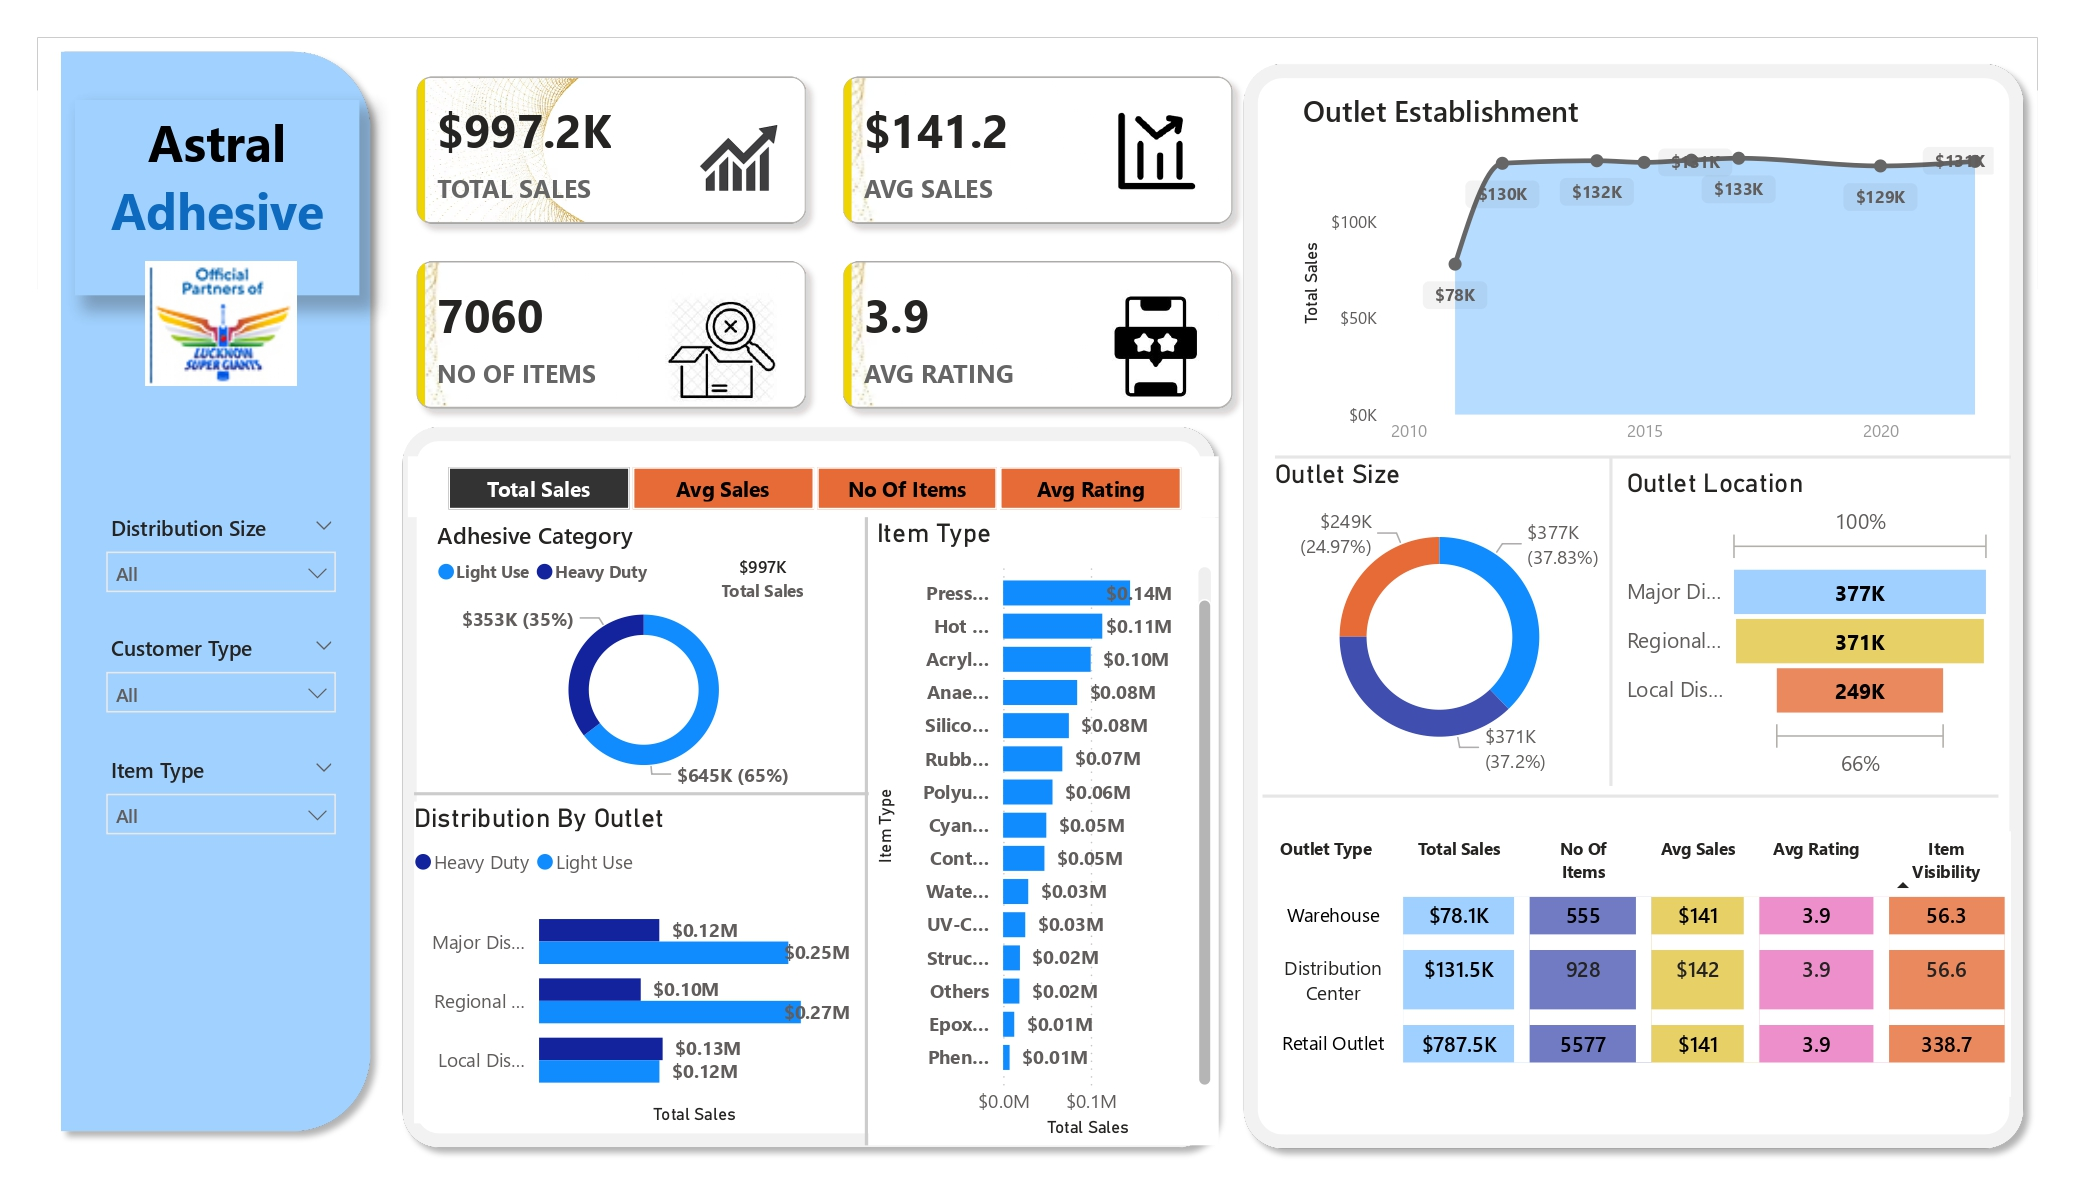

The dashboard page shown, as its layout file describes it:
{"tool":"powerbi","page":{"name":"Page 1","canvas":[1280,720],"ordinal":0},"visuals":[{"type":"shape","box":[6.5,0,215.4,709.2],"z":0},{"type":"textbox","box":[24.3,40.5,181.4,124.7],"z":1000},{"type":"image","box":[48.6,137.6,137.6,90.7],"z":2000},{"type":"cardVisual","fields":{"Data":["Astral Adhesive Data.Total Sales","Astral Adhesive Data.Avg Sales","Astral Adhesive Data.No Of Items","Astral Adhesive Data.Avg Rating"]},"box":[226,8.1,557.6,247.1],"z":3000},{"type":"image","box":[668.2,157.7,94.3,79.7],"z":4000},{"type":"image","box":[396.7,157.7,81.3,82.9],"z":5000},{"type":"image","box":[408.1,40.6,81.3,69.9],"z":6000},{"type":"image","box":[674.7,40.6,81.3,68.3],"z":7000},{"type":"shape","box":[225.1,239.6,537.6,479.3],"z":8000},{"type":"donutChart","title":"Adhesive Category","fields":{"Y":["Astral Adhesive Data.Total Sales"],"Category":["Astral Adhesive Data.Adhesive Category"]},"box":[255.8,307.7,263.9,171.6],"z":9000},{"type":"slicer","title":"Outlet Establishment","fields":{"Values":["Metrics.Metrics"]},"box":[237.4,268.2,518.6,39],"z":10000},{"type":"cardVisual","fields":{"Data":["Astral Adhesive Data.Total Sales"]},"box":[424.2,319,81,48.6],"z":11000},{"type":"clusteredBarChart","title":"Distribution By Outlet","fields":{"Y":["Astral Adhesive Data.Total Sales"],"Category":["Astral Adhesive Data.Distribution Size"],"Series":["Astral Adhesive Data.Adhesive Category"]},"box":[241.3,489,278.5,205.6],"z":12000},{"type":"shape","box":[241.3,479.3,293.1,9.7],"z":13000},{"type":"shape","box":[520.2,307.3,21.1,401.6],"z":14000},{"type":"barChart","title":"Item Type","fields":{"Y":["Astral Adhesive Data.Total Sales"],"Category":["Astral Adhesive Data.Item Type"]},"box":[531.6,307.3,224.4,401.6],"z":15000},{"type":"shape","box":[763.3,8.3,516.7,711.7],"z":16000},{"type":"lineChart","title":"Outlet Establishment ","fields":{"Category":["Astral Adhesive Data.Outlet Establishment Year"],"Y":["Astral Adhesive Data.Total Sales"]},"box":[804.8,34,451.8,234.8],"z":17000},{"type":"donutChart","title":"Outlet Size","fields":{"Y":["Astral Adhesive Data.Total Sales"],"Category":["Astral Adhesive Data.Distribution Size"]},"box":[791.8,268.8,210.5,210.5],"z":18000},{"type":"funnel","title":"Outlet Location","fields":{"Category":["Astral Adhesive Data.Distribution Size"],"Y":["Sum(Astral Adhesive Data.Sales)"]},"box":[1012,275.3,244.5,204],"z":19000},{"type":"pivotTable","fields":{"Values":["Astral Adhesive Data.Total Sales","Astral Adhesive Data.No Of Items","Astral Adhesive Data.Avg Sales","Astral Adhesive Data.Avg Rating","Sum(Astral Adhesive Data.Item Visibility)"],"Rows":["Astral Adhesive Data.Sales Channel Type"]},"box":[785,508.3,478.3,170],"z":20000},{"type":"shape","box":[791.8,262.3,471.2,13],"z":21000},{"type":"shape","box":[783.7,479.3,471.2,13],"z":22000},{"type":"shape","box":[1002.3,268.8,9.7,210.5],"z":23000},{"type":"slicer","fields":{"Values":["Astral Adhesive Data.Distribution Size"]},"box":[34,299.6,166.8,74.5],"z":23001},{"type":"slicer","fields":{"Values":["Astral Adhesive Data.Customer Type"]},"box":[34,377.3,166.8,74.5],"z":23002},{"type":"slicer","fields":{"Values":["Astral Adhesive Data.Item Type"]},"box":[34,455,166.8,74.5],"z":23003}]}

Visuals, with their boxes in screenshot pixels (x1, y1, x2, y2):
shape: (x1=48, y1=38, x2=384, y2=1146)
textbox: (x1=75, y1=101, x2=359, y2=296)
image: (x1=113, y1=252, x2=328, y2=394)
cardVisual - Astral Adhesive Data.Total Sales x Astral Adhesive Data.Avg Sales: (x1=391, y1=50, x2=1262, y2=436)
image: (x1=1082, y1=284, x2=1229, y2=408)
image: (x1=657, y1=284, x2=784, y2=413)
image: (x1=675, y1=101, x2=802, y2=210)
image: (x1=1092, y1=101, x2=1219, y2=208)
shape: (x1=389, y1=412, x2=1229, y2=1161)
"Adhesive Category" donutChart: (x1=437, y1=518, x2=850, y2=786)
"Outlet Establishment" slicer: (x1=408, y1=457, x2=1219, y2=518)
cardVisual - Astral Adhesive Data.Total Sales: (x1=700, y1=536, x2=827, y2=612)
"Distribution By Outlet" clusteredBarChart: (x1=415, y1=802, x2=850, y2=1123)
shape: (x1=415, y1=786, x2=873, y2=802)
shape: (x1=850, y1=518, x2=883, y2=1145)
"Item Type" barChart: (x1=868, y1=518, x2=1219, y2=1145)
shape: (x1=1230, y1=50, x2=2038, y2=1162)
"Outlet Establishment " lineChart: (x1=1295, y1=91, x2=2001, y2=458)
"Outlet Size" donutChart: (x1=1275, y1=458, x2=1604, y2=786)
"Outlet Location" funnel: (x1=1619, y1=468, x2=2001, y2=786)
pivotTable - Astral Adhesive Data.Total Sales x Astral Adhesive Data.No Of Items: (x1=1264, y1=832, x2=2011, y2=1097)
shape: (x1=1275, y1=447, x2=2011, y2=468)
shape: (x1=1262, y1=786, x2=1998, y2=807)
shape: (x1=1604, y1=458, x2=1619, y2=786)
slicer - Astral Adhesive Data.Distribution Size: (x1=91, y1=506, x2=351, y2=622)
slicer - Astral Adhesive Data.Customer Type: (x1=91, y1=627, x2=351, y2=743)
slicer - Astral Adhesive Data.Item Type: (x1=91, y1=748, x2=351, y2=865)
